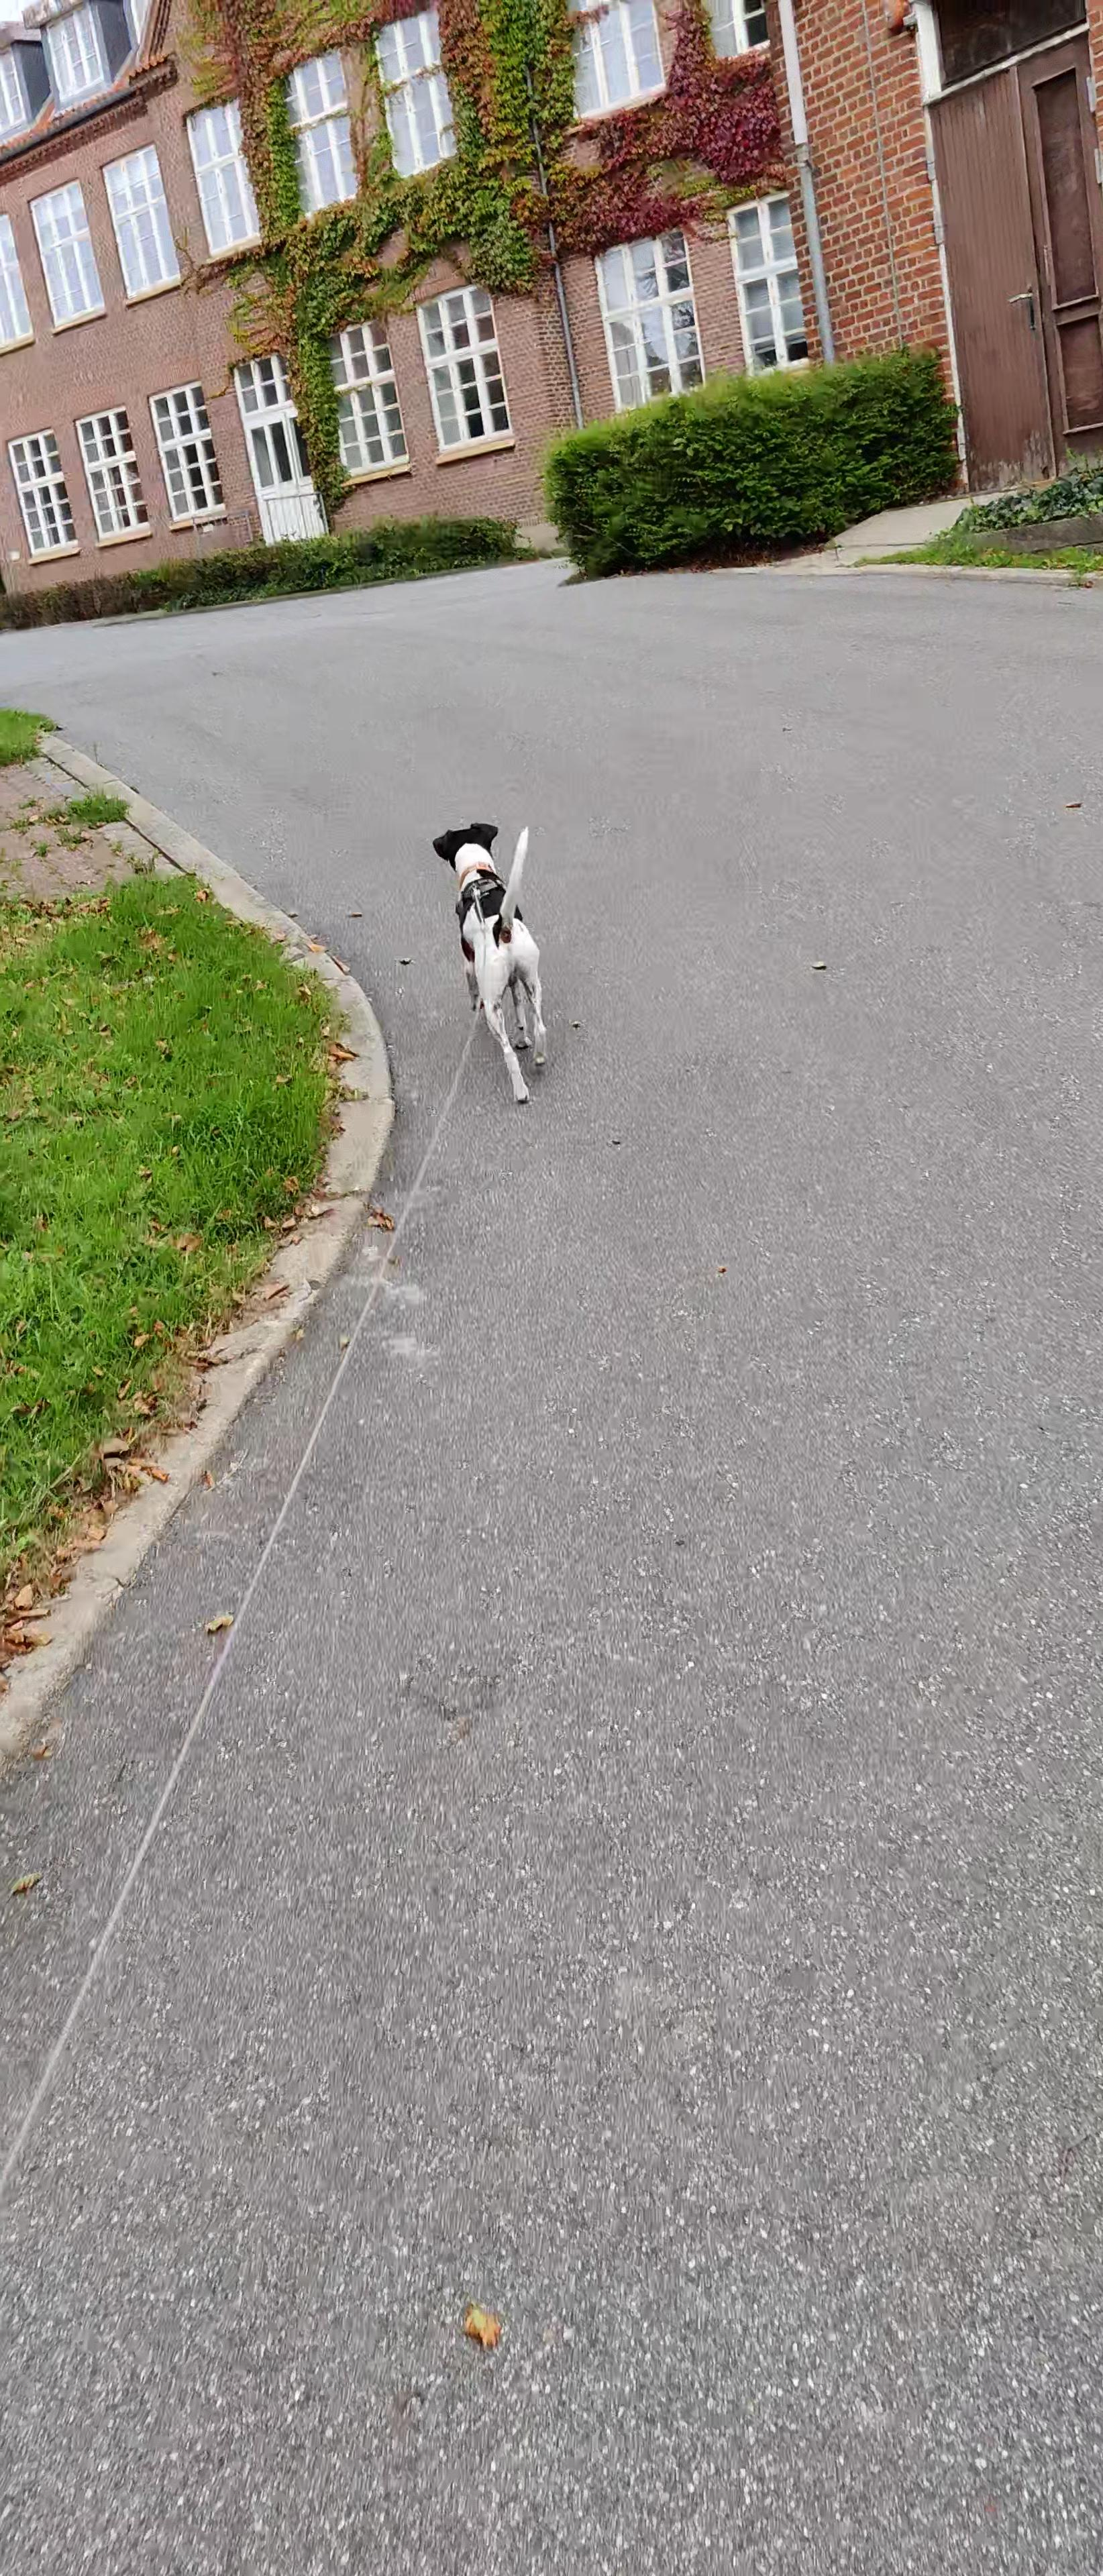Dog: (427, 820, 561, 1112)
